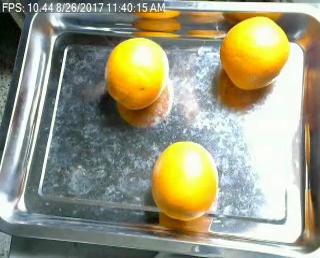Orange: (150, 140, 217, 220), (220, 14, 290, 90), (106, 37, 169, 111)
